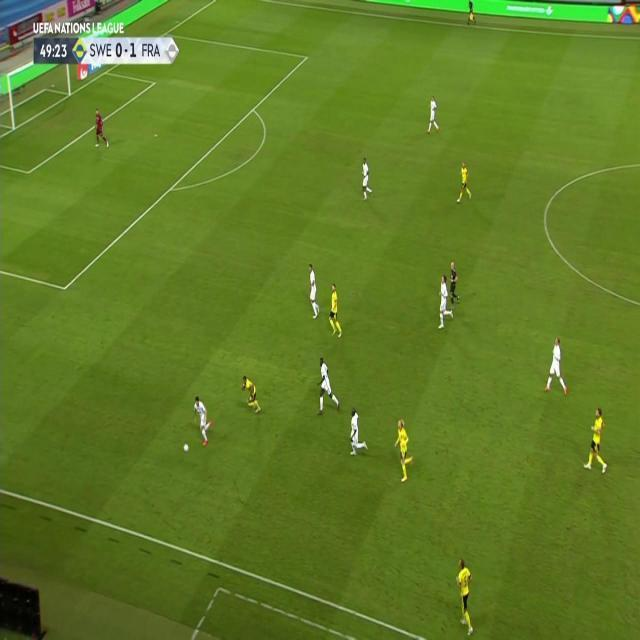ball: (182, 440, 189, 454)
goalkeeper: (93, 108, 109, 150)
player: (584, 408, 611, 476), (454, 555, 476, 633), (316, 355, 341, 417), (544, 335, 568, 397), (393, 418, 415, 483), (348, 407, 369, 459), (192, 395, 212, 448), (436, 275, 454, 330), (306, 263, 322, 320), (327, 281, 342, 339), (241, 373, 261, 415), (456, 161, 472, 203), (360, 157, 373, 203), (426, 94, 440, 134)
referee: (448, 260, 461, 307), (466, 0, 477, 25)
